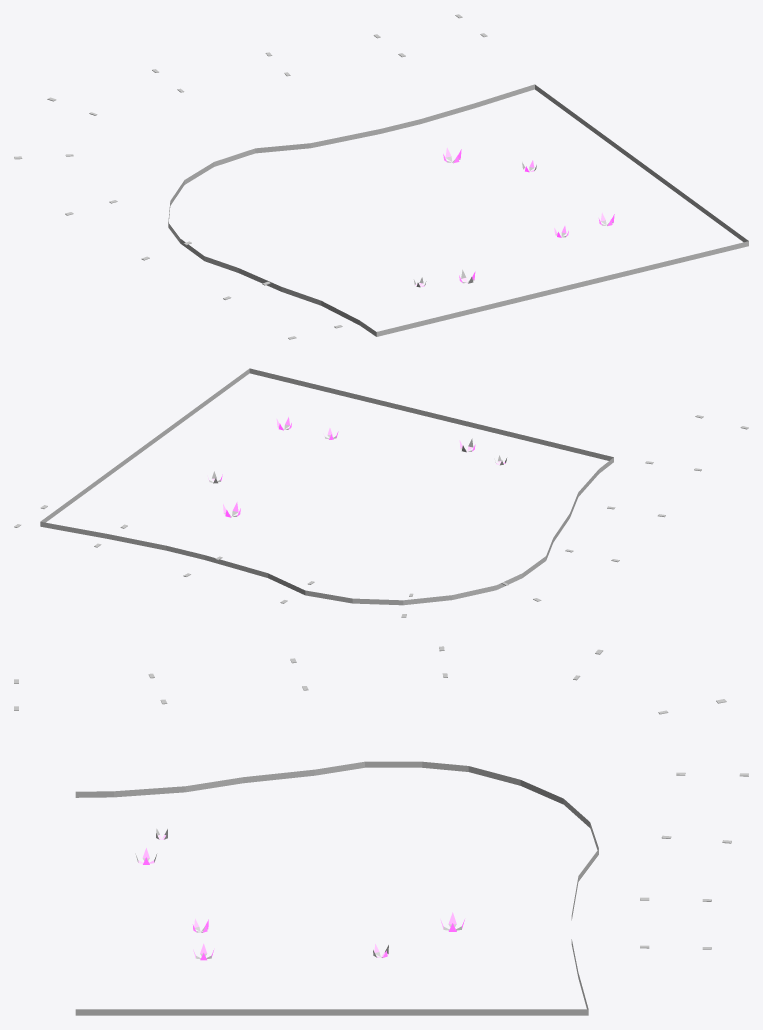
File: L2Light.fbx
3 views of the same model, one above another, from view 1: azimuth 30°, elevation 25°; view 2: azimuth 150°, elevation 25°; view 3: azimuth 270°, elevation 25° (orthographic). The views are drawn at different scales.
Parts seen in each view (by area): view 1: Plane.001; view 2: Plane.001; view 3: Plane.001.
Part boxes in pixels (bbox=[...]): Plane.001: bbox=[14, 14, 748, 339]; Plane.001: bbox=[14, 368, 748, 617]; Plane.001: bbox=[14, 646, 748, 1015].
Size of the model in its own units: 11061 by 1081 by 11084.
